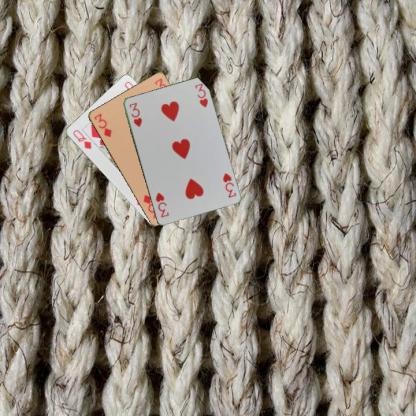3d: (91, 111, 113, 138)
3h: (220, 170, 237, 199), (127, 100, 144, 128)
Qd: (70, 127, 92, 150)
